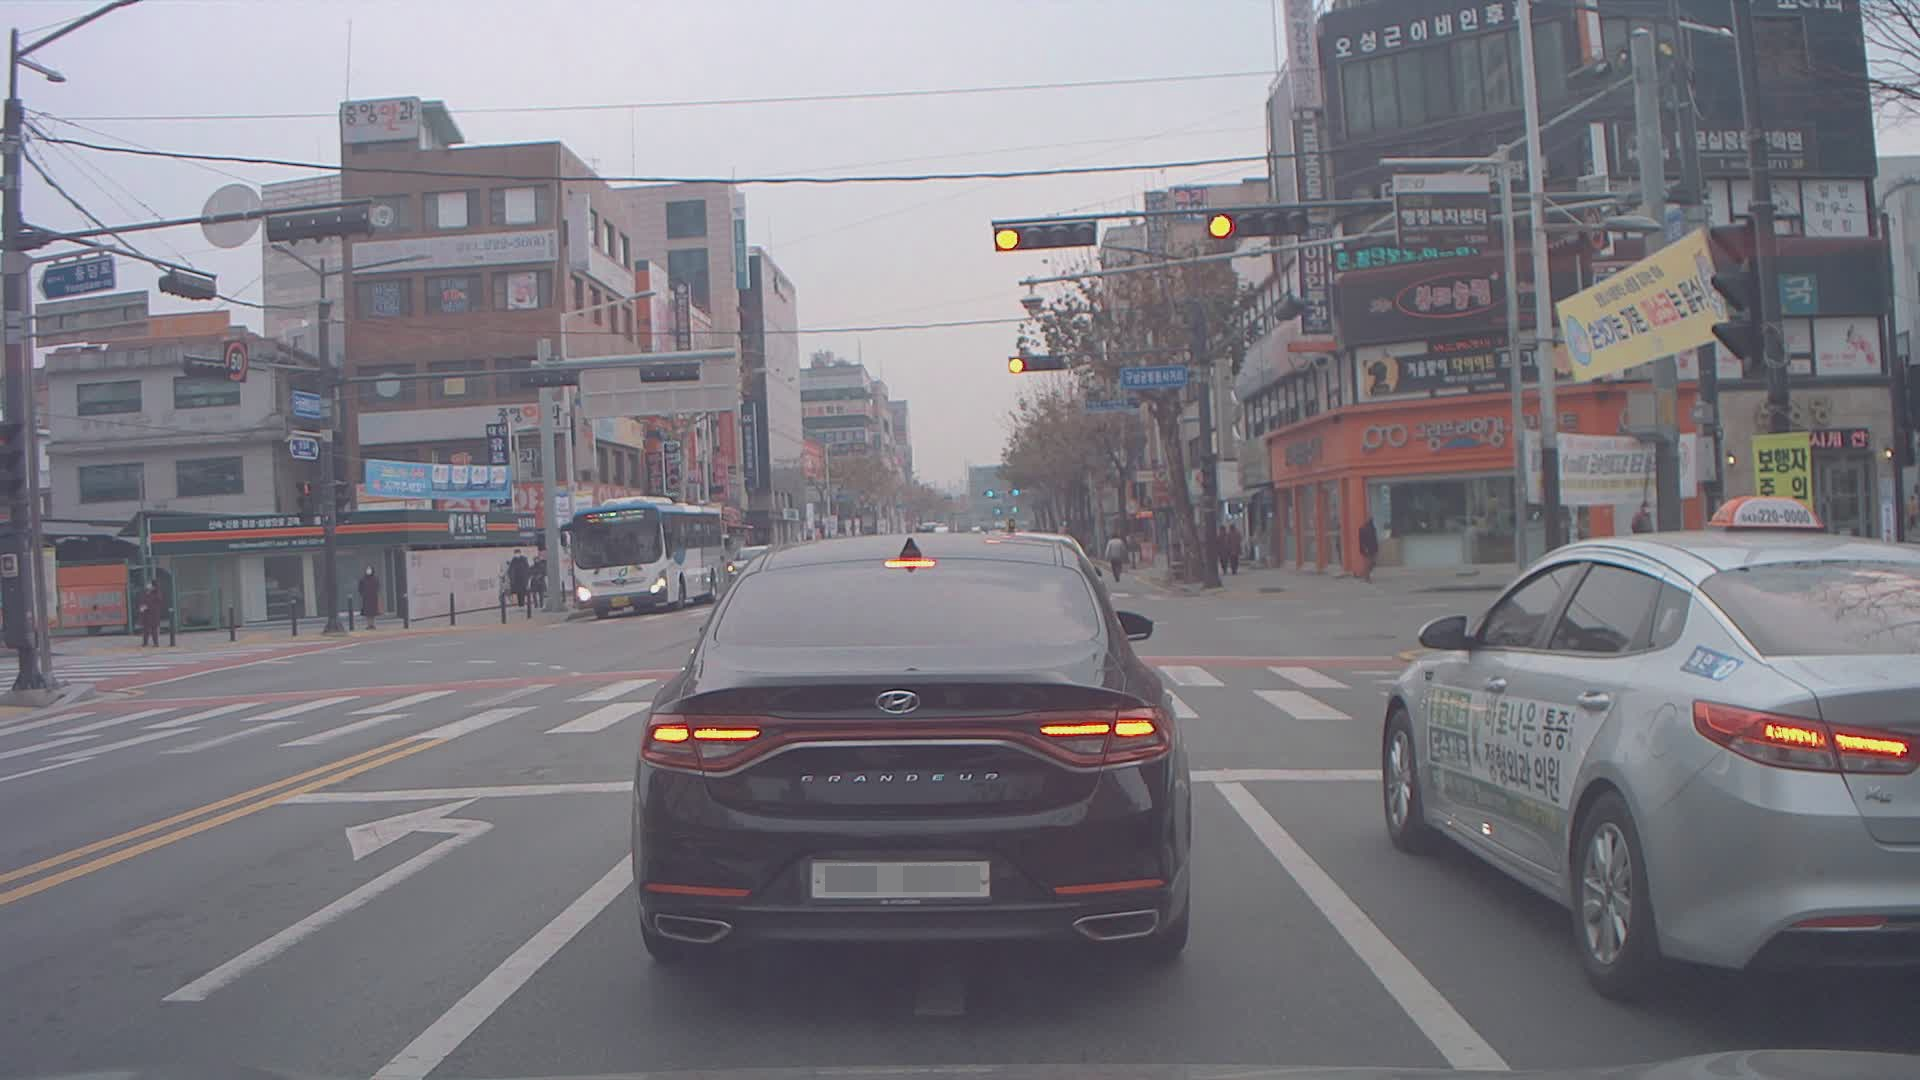trafficLight: (988, 214, 1095, 251), (1208, 211, 1308, 237), (1005, 353, 1073, 375)
